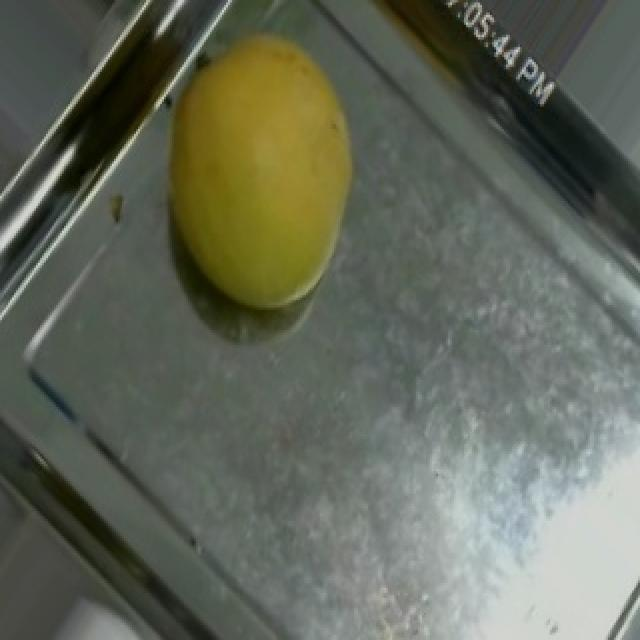fruit: (114, 5, 442, 360)
